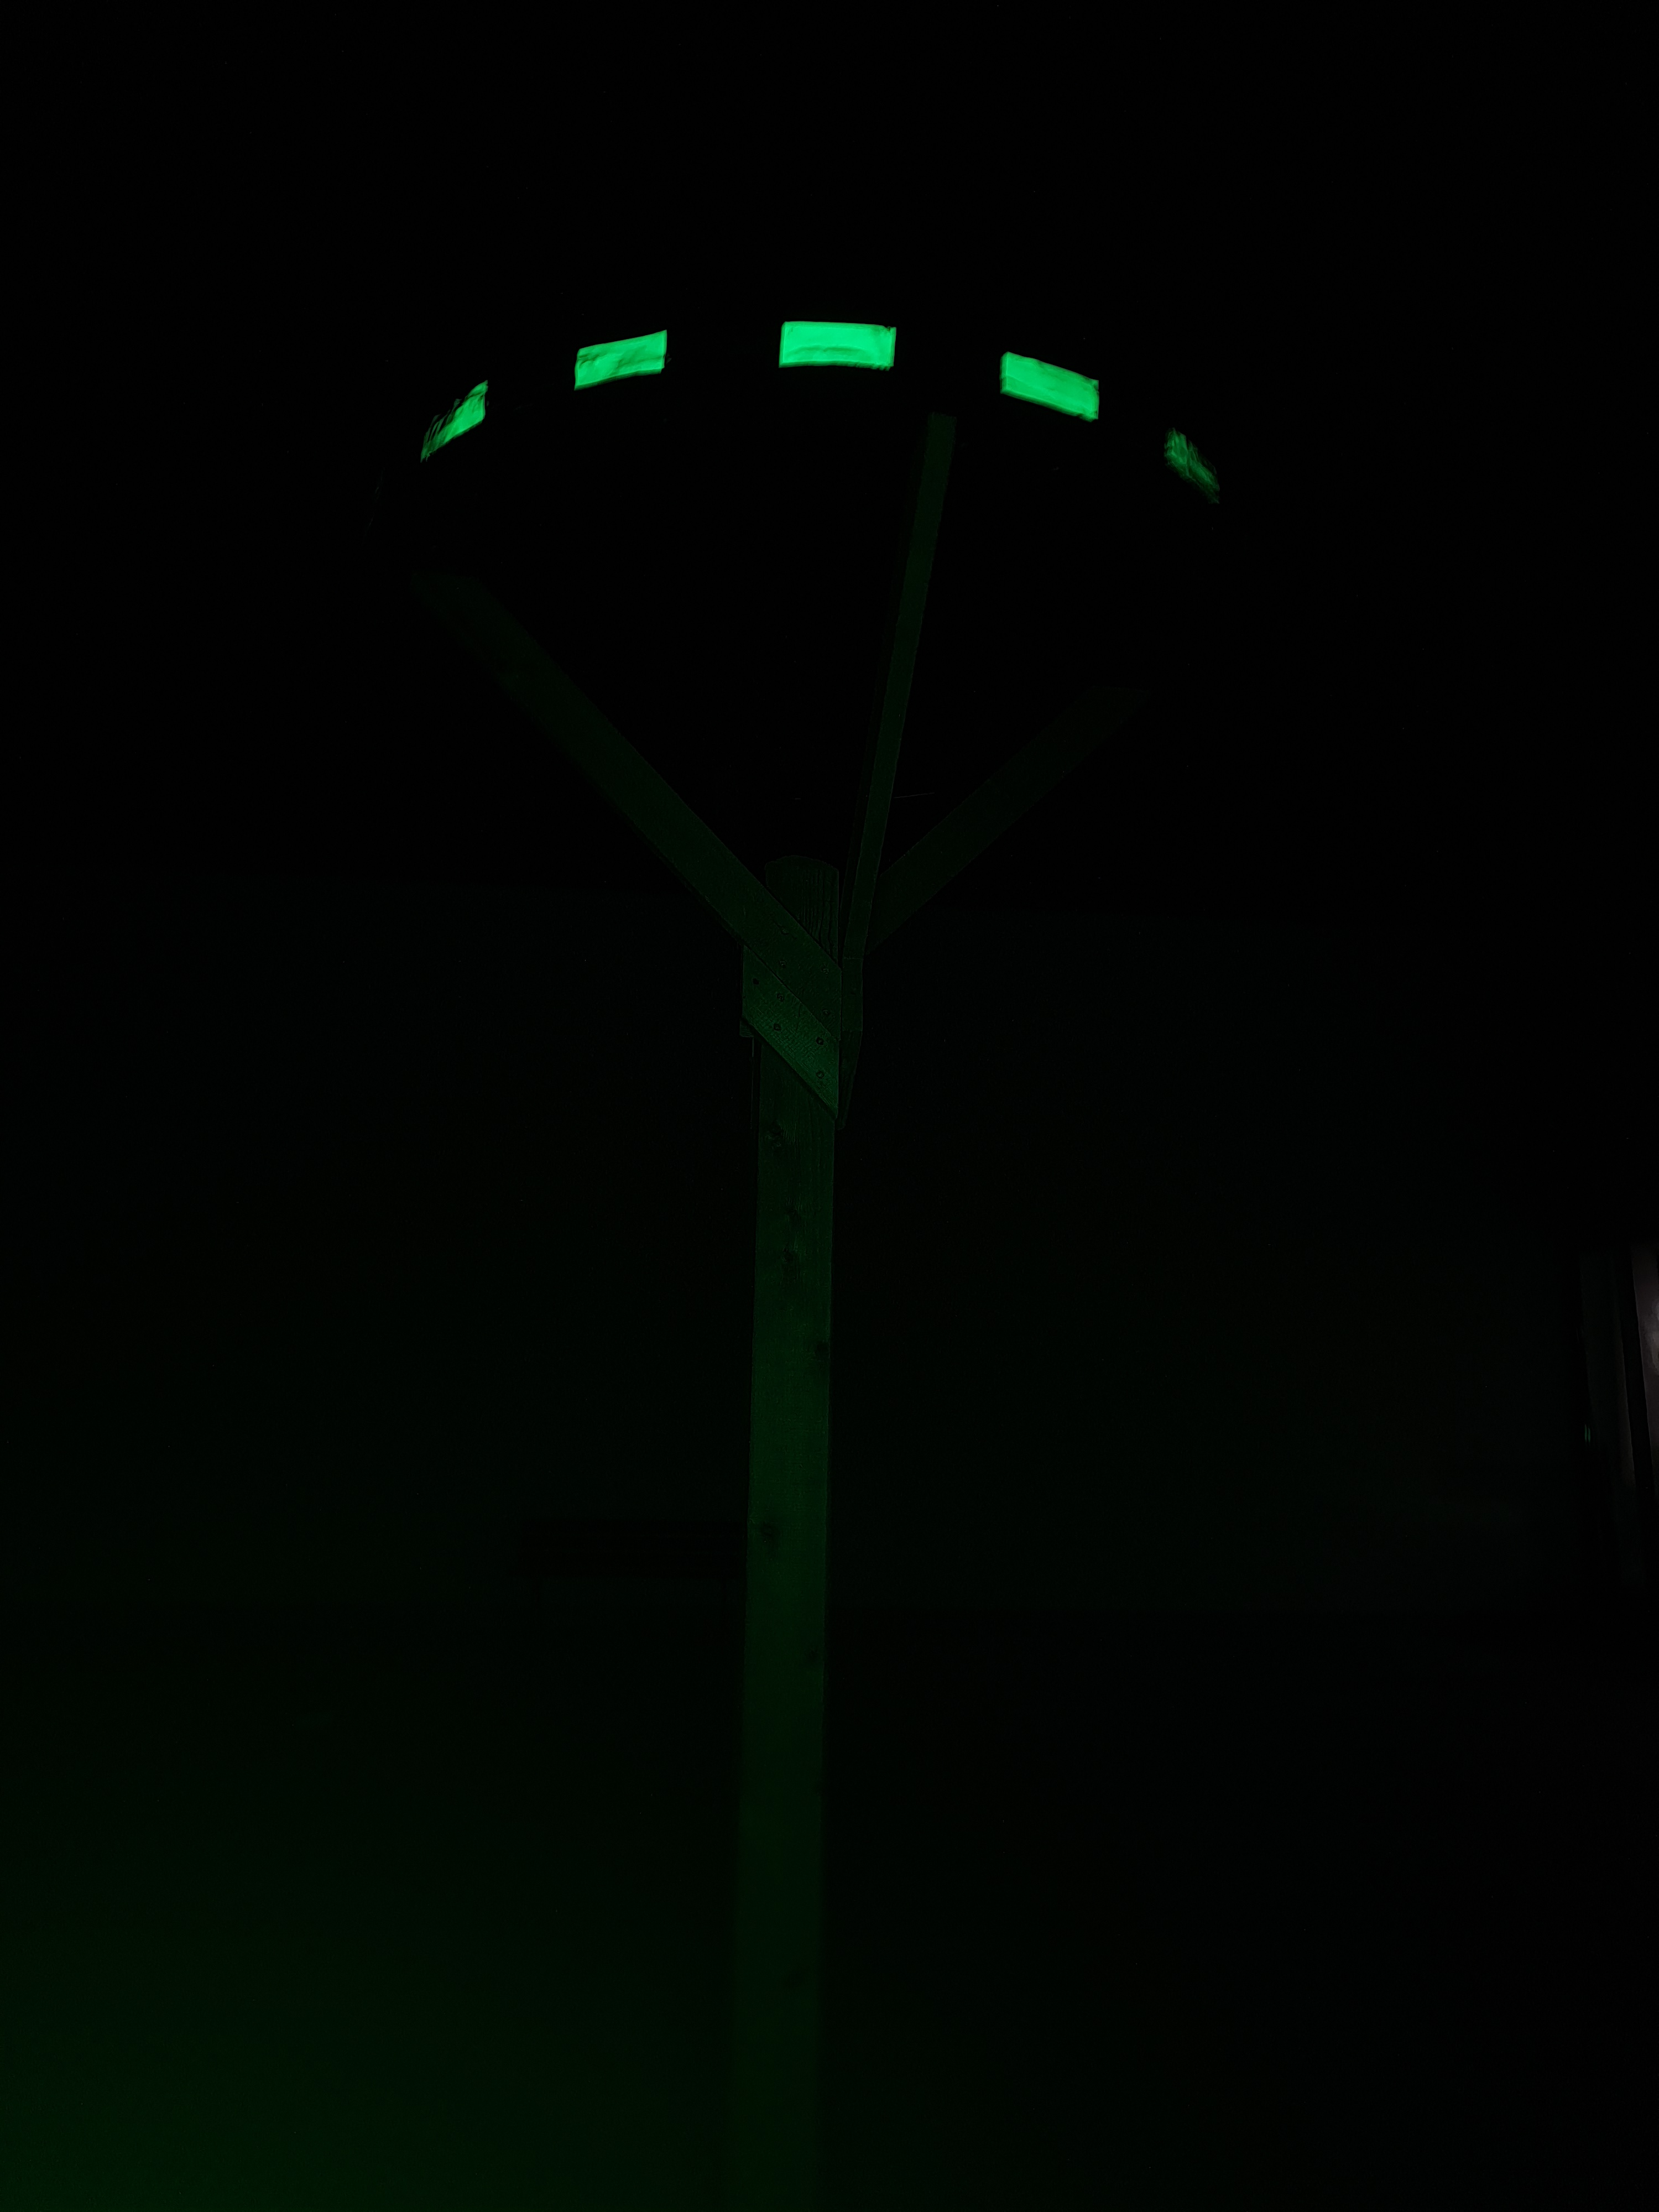hoop: (427, 312, 1227, 505)
